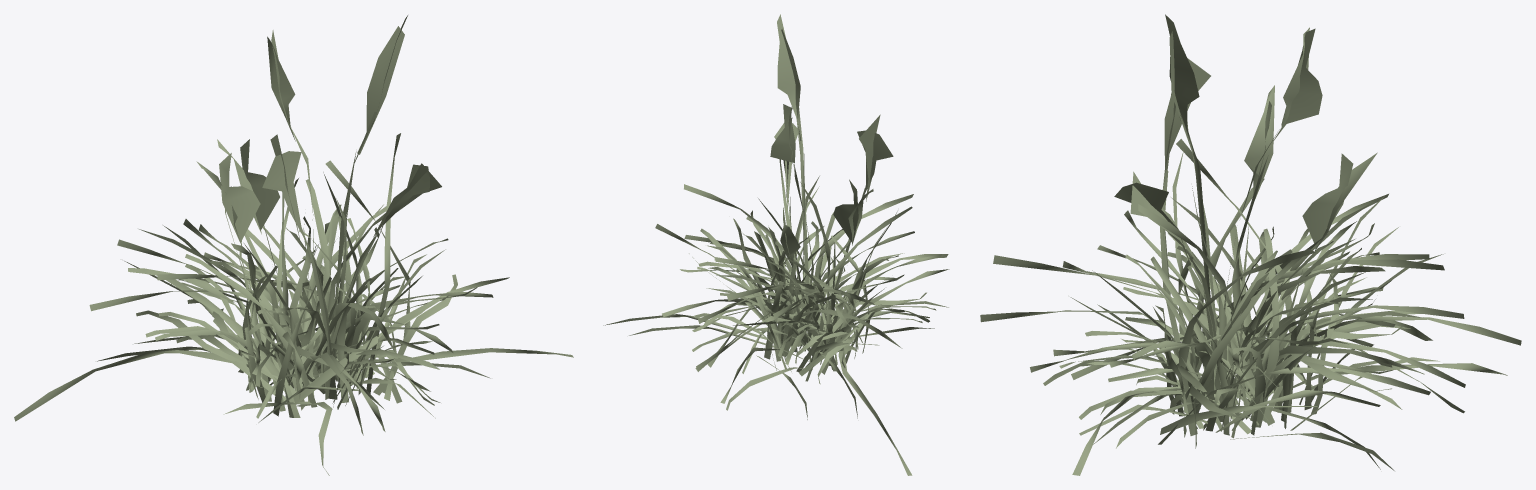
File: grass-lod1.glb
The picture shows the model from 3 angles, left to right: view 1: azimuth 30°, elevation 25°; view 2: azimuth 150°, elevation 25°; view 3: azimuth 270°, elevation 25°; orthographic projection. The views are drawn at different scales.
Visible parts, largest first — view 1: grass_medium_01_mid_a_LOD0; view 2: grass_medium_01_mid_a_LOD0; view 3: grass_medium_01_mid_a_LOD0.
Part boxes in pixels (x1,y1,x2,y2): grass_medium_01_mid_a_LOD0: (14, 15, 573, 475); grass_medium_01_mid_a_LOD0: (603, 14, 949, 475); grass_medium_01_mid_a_LOD0: (980, 14, 1521, 475).
Size of the model in its own units: 0.2177 by 0.2174 by 0.2214.
